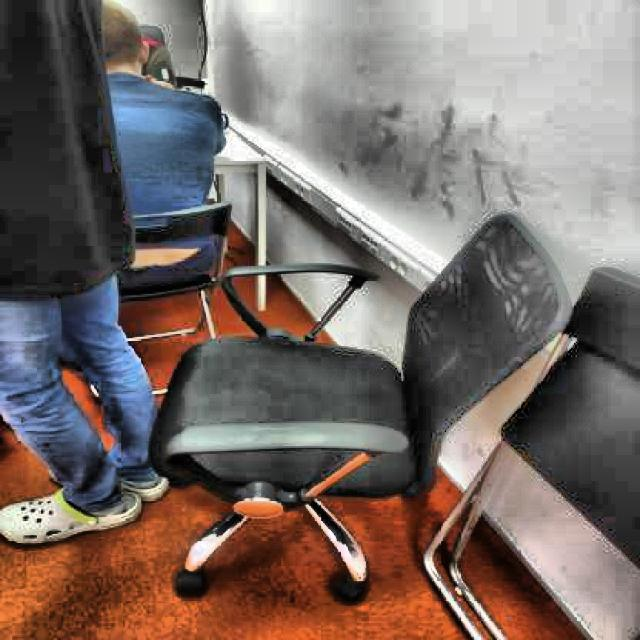cadeira: (151, 200, 574, 602)
